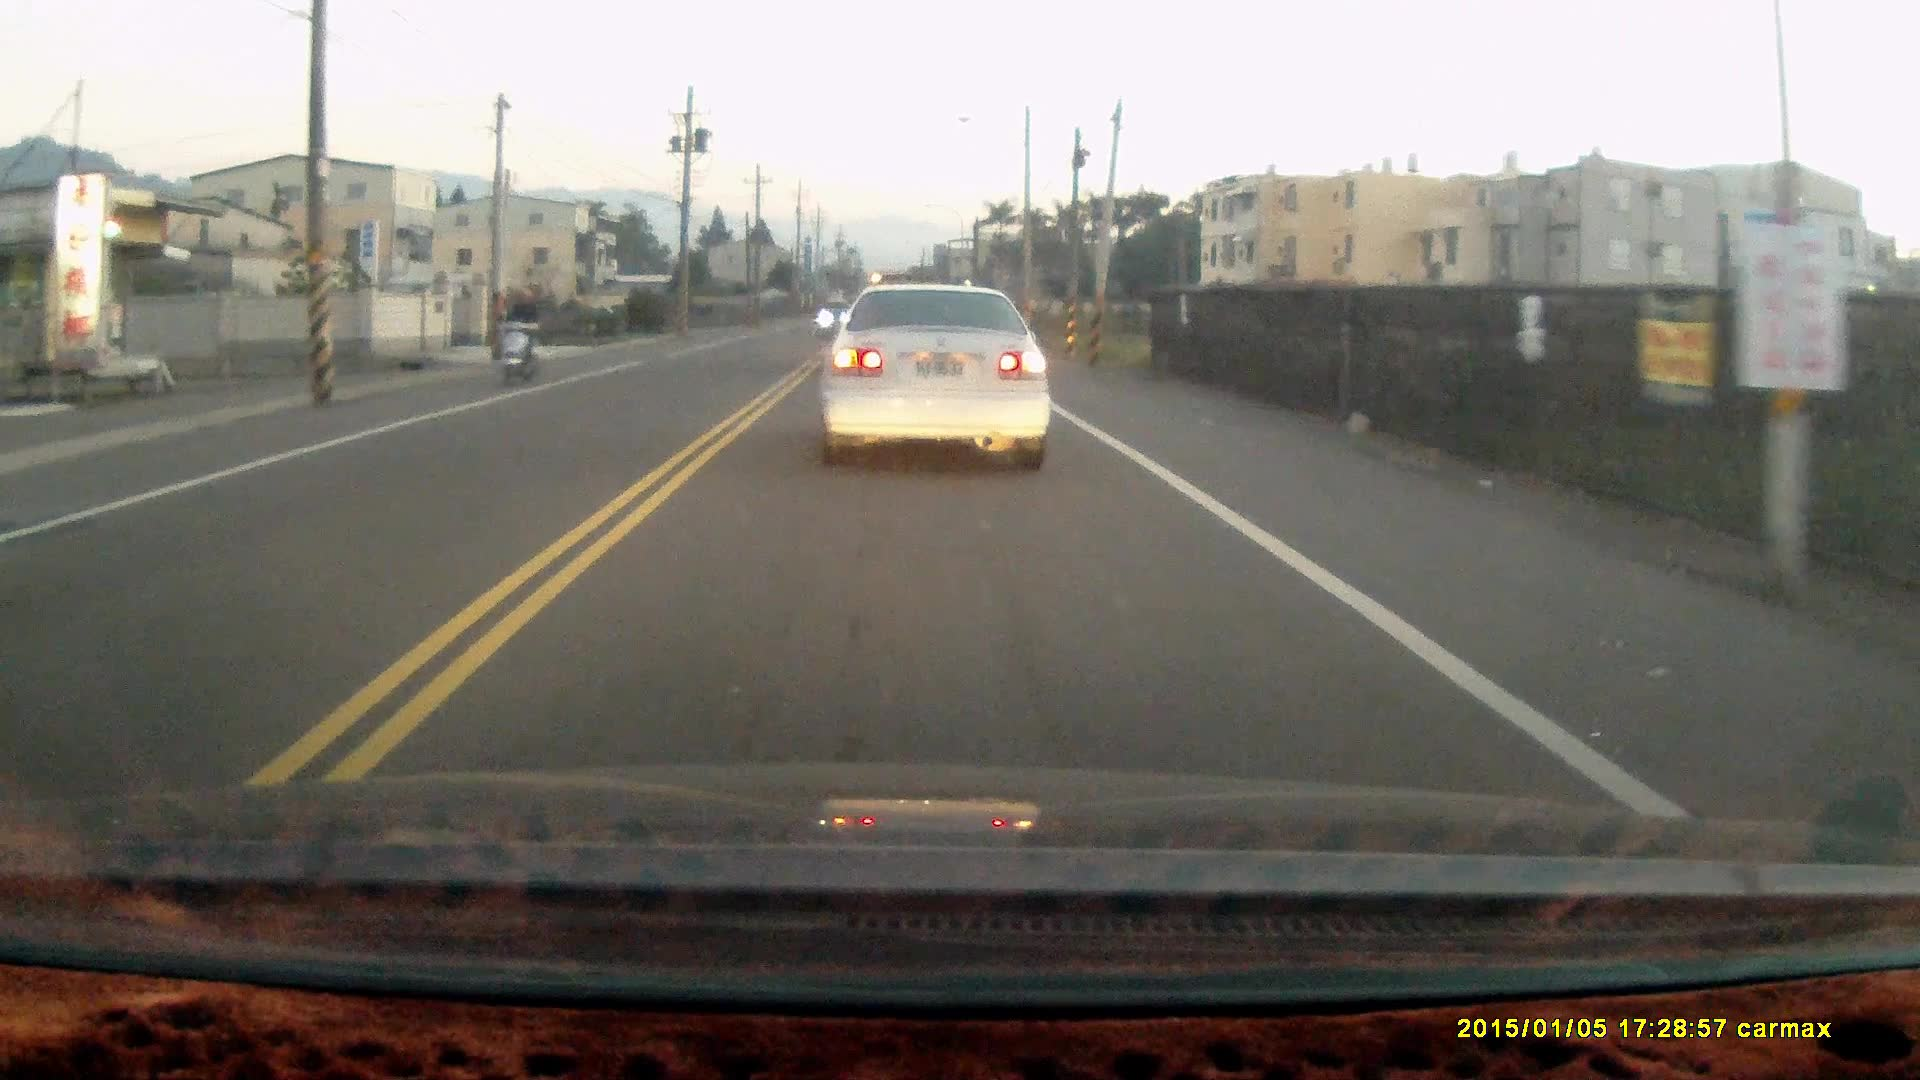rider: (495, 286, 542, 393)
vehicle: (815, 281, 1053, 473)
